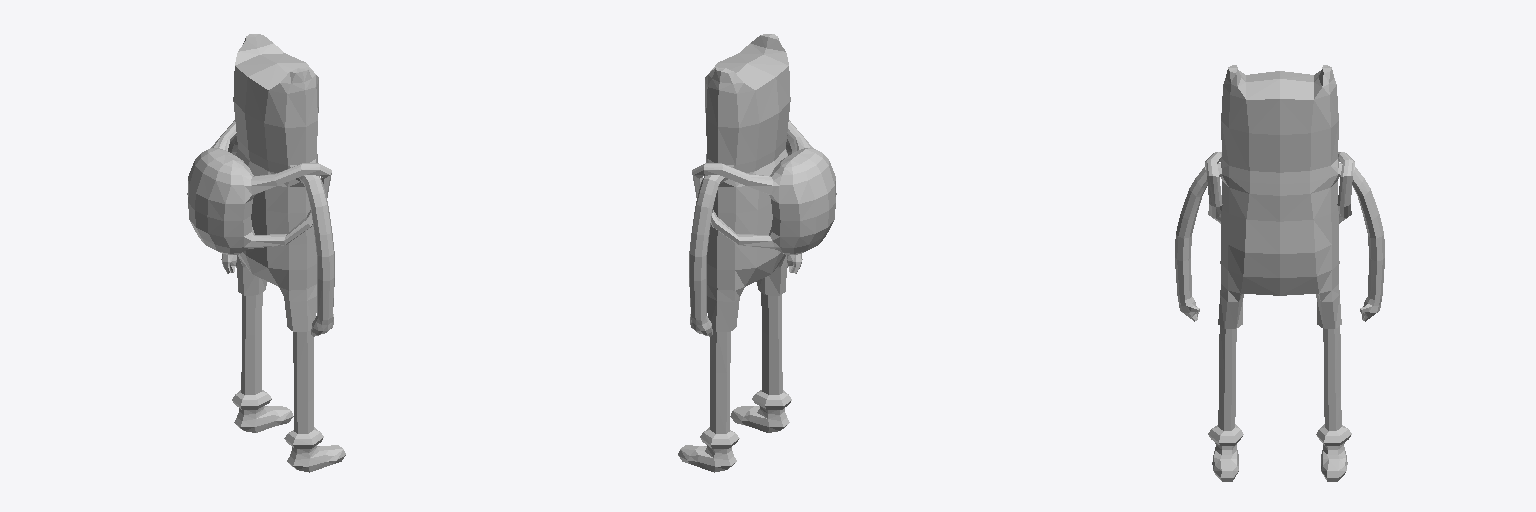
File: finn.obj
3 renders of one model, left to right at view 1: azimuth 30°, elevation 25°; view 2: azimuth 150°, elevation 25°; view 3: azimuth 270°, elevation 25°, orthographic.
Visible parts, largest first — view 1: finn; view 2: finn; view 3: finn.
Boxes of the visible parts, x1,y1,x2,y2 form: finn: [187, 34, 345, 472]; finn: [678, 34, 836, 472]; finn: [1175, 65, 1384, 481].
Bounding box in the file's own units: 1.41 × 4.39 × 2.11.